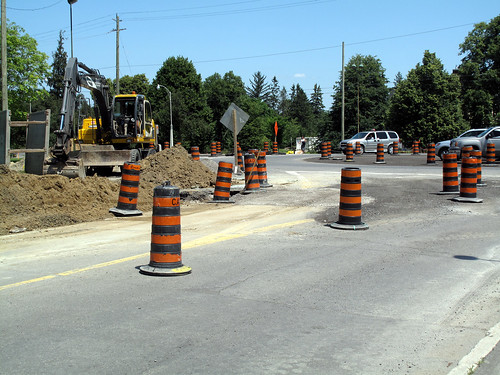excavator: (39, 54, 162, 179)
sky: (59, 1, 500, 57)
street: (1, 174, 494, 375)
traffic cone: (138, 182, 198, 276), (326, 161, 370, 231), (109, 158, 143, 219), (207, 155, 238, 206), (241, 145, 272, 196), (456, 155, 483, 206), (438, 150, 463, 196), (373, 142, 387, 164), (423, 143, 437, 165), (343, 142, 357, 164)
vegetation: (1, 35, 492, 132)
